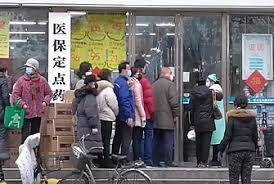mask: (20, 60, 37, 75), (118, 61, 133, 78), (138, 58, 151, 76), (163, 67, 176, 83), (105, 68, 116, 84), (81, 63, 93, 76), (204, 75, 214, 88)
